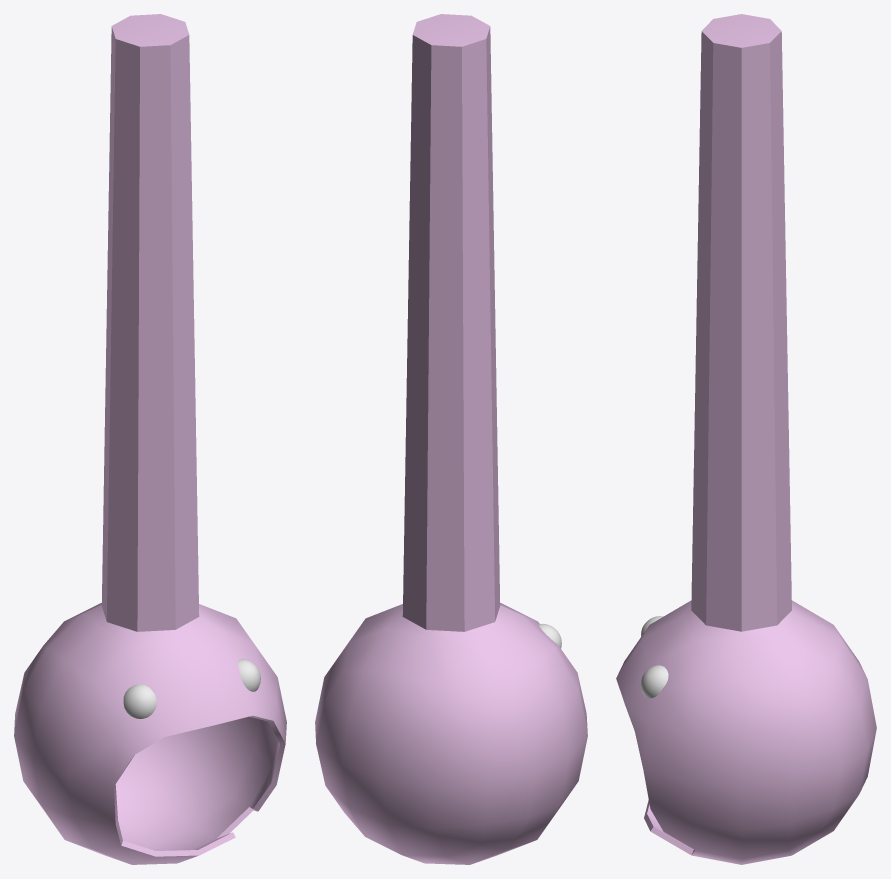
The model's file is boss01.fbx.
3 views of the same model, side by side, from view 1: azimuth 30°, elevation 25°; view 2: azimuth 150°, elevation 25°; view 3: azimuth 270°, elevation 25° (orthographic).
Visible parts, largest first — view 1: pSphere6; view 2: pSphere6; view 3: pSphere6.
Part boxes in pixels (x1=…): pSphere6: x1=14, y1=14, x2=286, y2=864; pSphere6: x1=315, y1=14, x2=587, y2=864; pSphere6: x1=616, y1=14, x2=876, y2=864.
Bounding box in the file's own units: 28.86 × 96.71 × 27.83.
